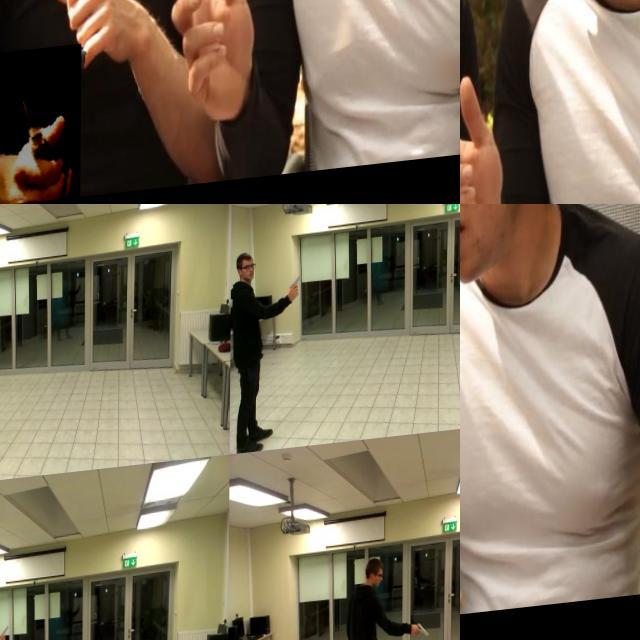-: (0, 46, 82, 204), (460, 233, 508, 440)
gun-knife-thesis - v11 Yolov5 augmented: (285, 278, 300, 306), (407, 625, 429, 640), (0, 301, 8, 336), (0, 624, 9, 640)
